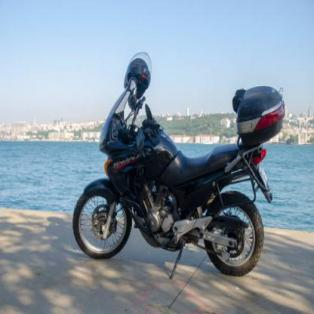Motocicleta: (67, 48, 285, 284)
